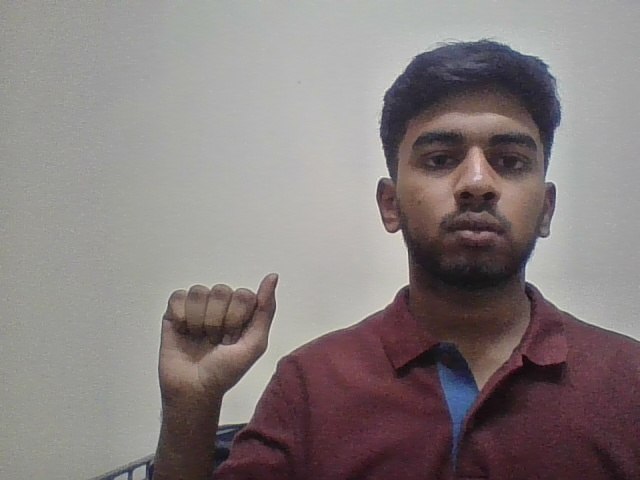A: (148, 257, 289, 411)
